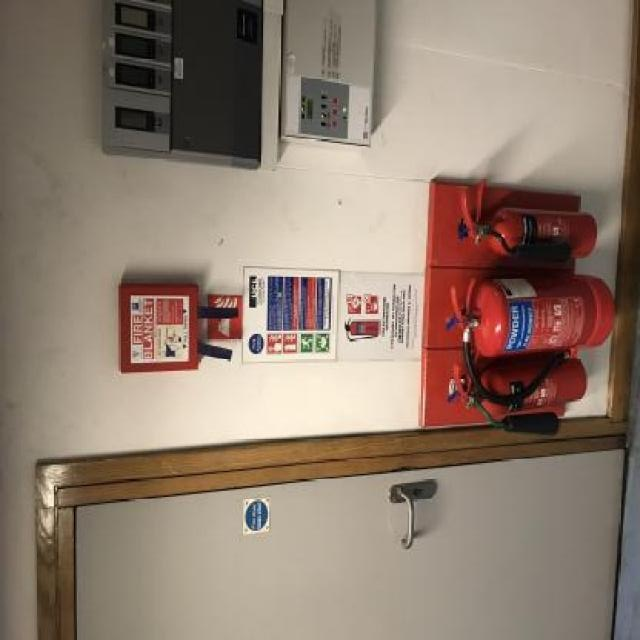fire extinguisher: (453, 278, 615, 350), (457, 355, 581, 420), (468, 201, 597, 255)
